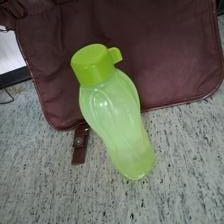bottle: (70, 41, 153, 181)
